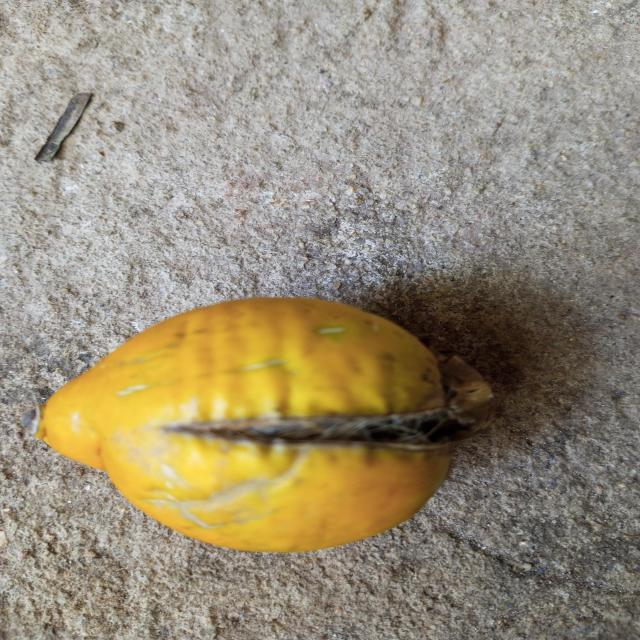damaged: (26, 298, 495, 552)
